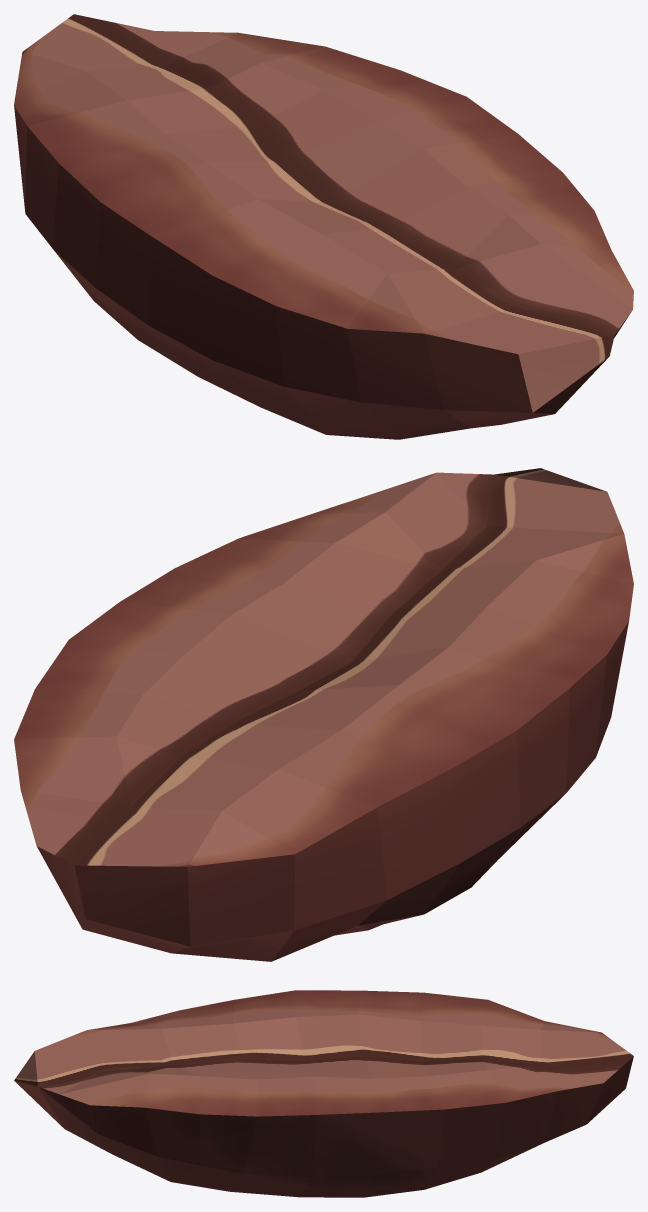
File: liberica.fbx
3 views of the same model, one above another, from view 1: azimuth 30°, elevation 25°; view 2: azimuth 150°, elevation 25°; view 3: azimuth 270°, elevation 25° (orthographic). The views are drawn at different scales.
Visible parts, largest first — view 1: LibericaRetopo; view 2: LibericaRetopo; view 3: LibericaRetopo.
Boxes of the visible parts, <box> form: LibericaRetopo: <box>14,14,633,439</box>; LibericaRetopo: <box>14,468,633,961</box>; LibericaRetopo: <box>14,990,633,1197</box>.
Bounding box in the file's own units: 20.88 × 11.16 × 44.06.
